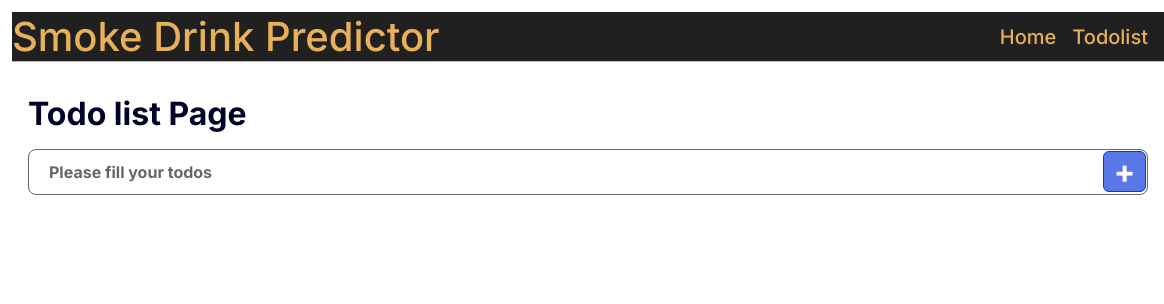
Test: TodoList Test › Todo with input
This screenshot has width=1164, height=304.
Step 1. Type "Hello World" into the field with test id "input-todo" → (588, 172), box [28,149,1148,195]
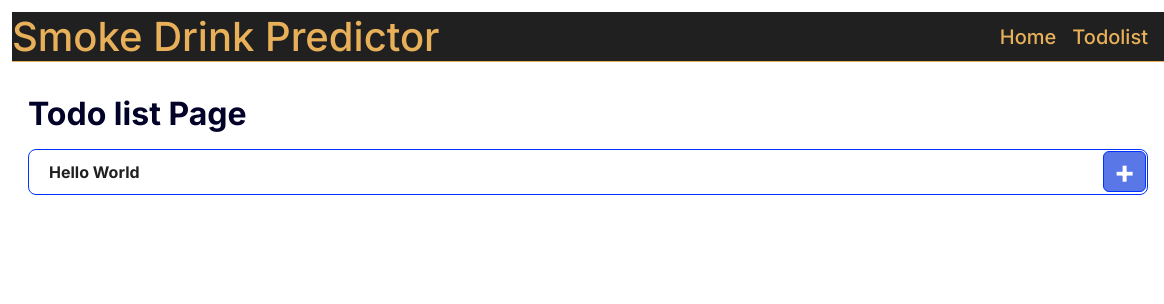
Step 2. Click the button with test id "btn-add-todo" → (1125, 172), box [1103,151,1147,192]
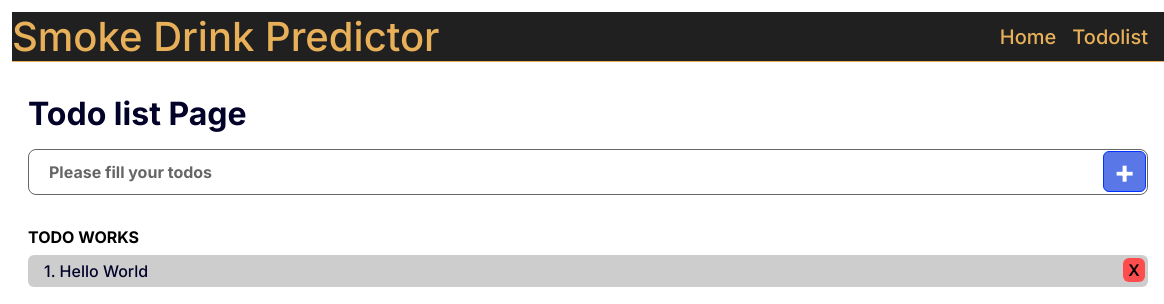
Expected: the element with test id "todo-list" shows "Hello World", [60,261,149,281]
